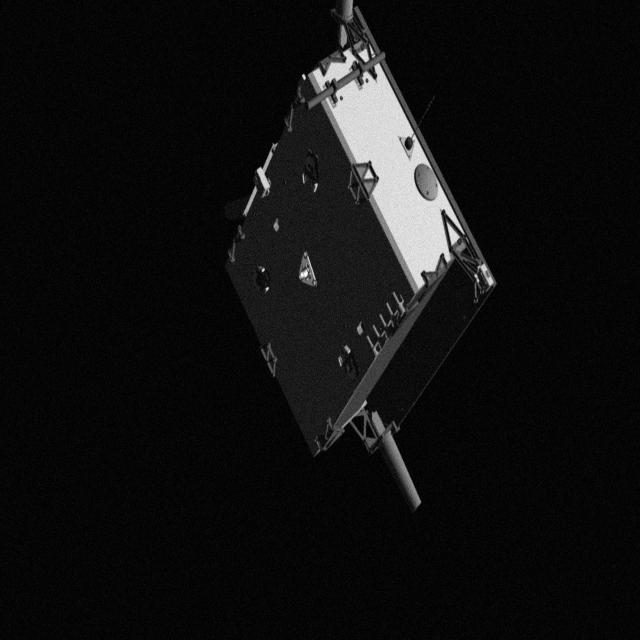satellite: (214, 0, 504, 514)
